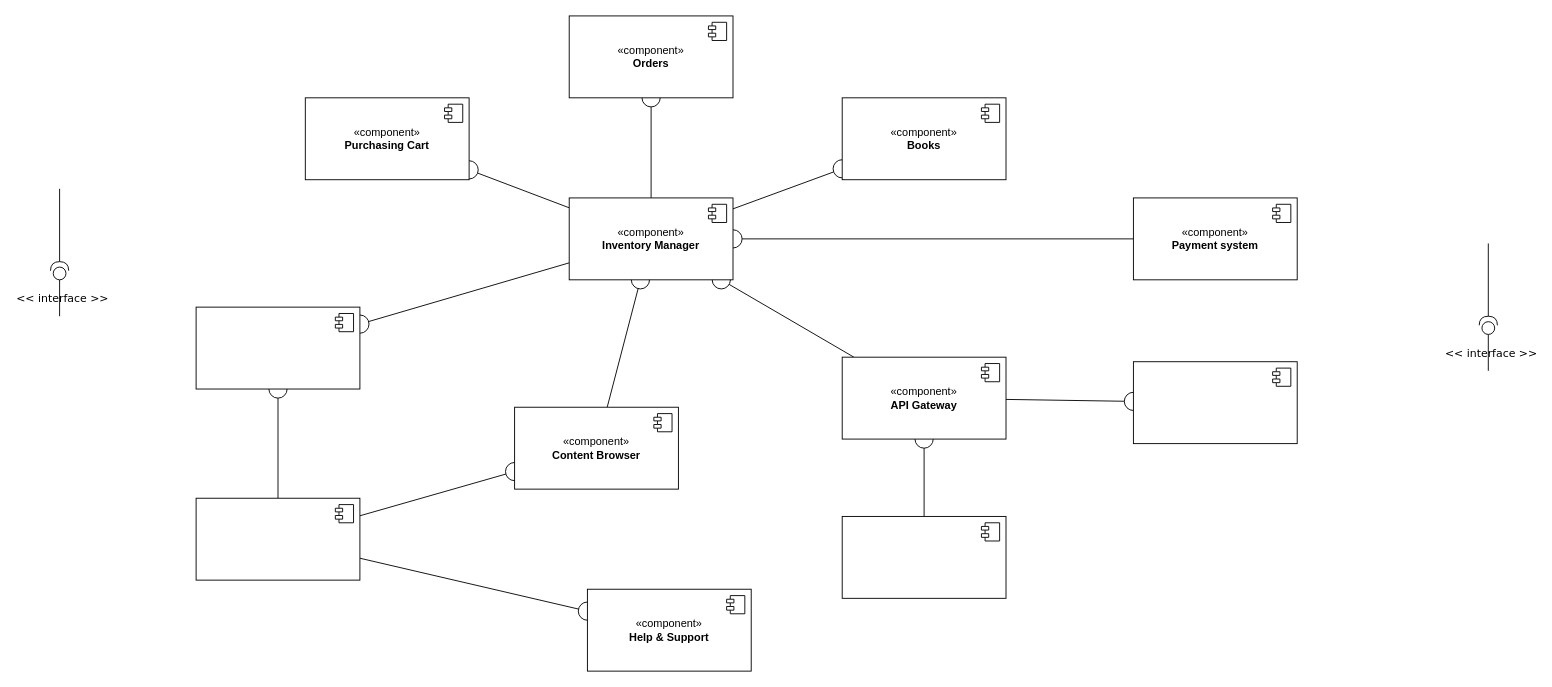
Some shapes in this 1552 by 687 pixel diagram are drawn without their labels. Here are the shapes that lost their labels. From the top down, the box of each, then its label:
(195, 306, 360, 389): «component» Authentication & Security
(1132, 361, 1297, 444): «component» REST services
(195, 497, 360, 580): «component» User Profile Manager
(841, 516, 1006, 598): «component» Database
